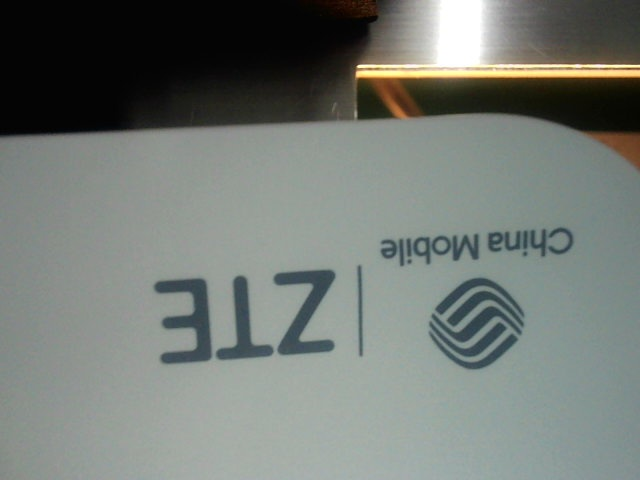AL_ZTEChinaMobile: (138, 218, 584, 376)
